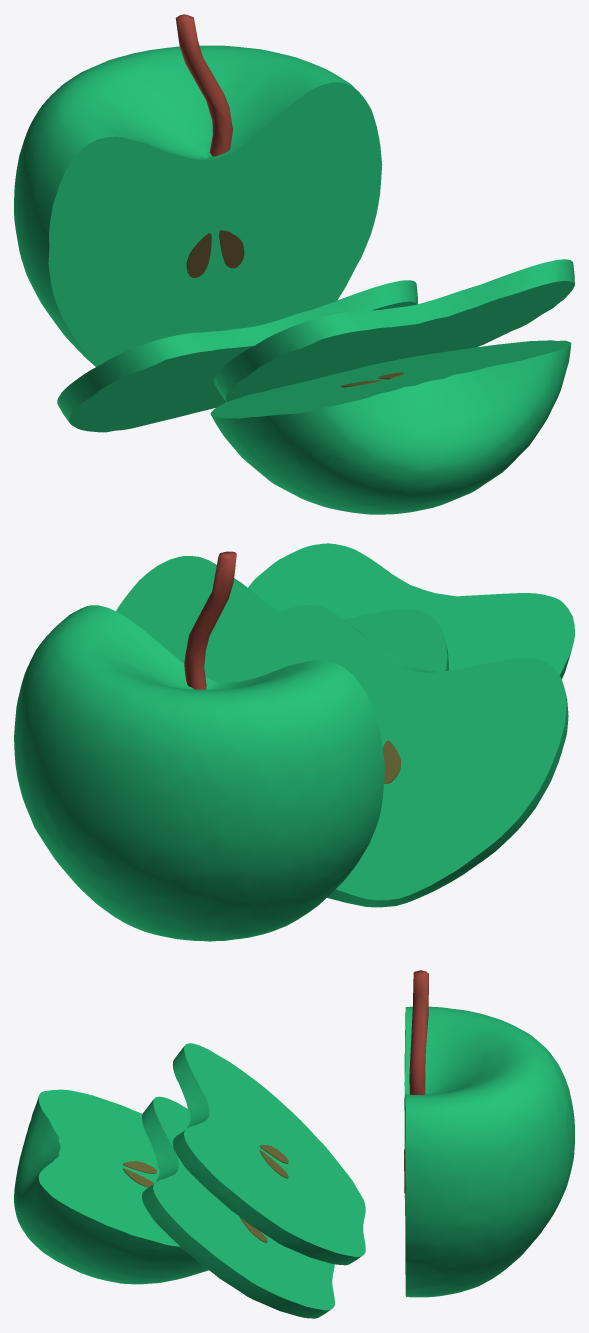
The model's file is apple-cut.gltf.
3 views of the same model, one above another, from view 1: azimuth 30°, elevation 25°; view 2: azimuth 150°, elevation 25°; view 3: azimuth 270°, elevation 25° (orthographic). The views are drawn at different scales.
Parts seen in each view (by area): view 1: Sphere.002, Sphere.007, Sphere.001, Sphere.005, Cylinder.002, Sphere.004; view 2: Sphere.002, Sphere.005, Sphere.007, Sphere.001, Cylinder.002, Sphere.003; view 3: Sphere.002, Sphere.007, Sphere.005, Sphere.001, Cylinder.002, Sphere.008, Sphere.003.
Boxes of the visible parts, bbox=[...] form: Sphere.002: bbox=[14, 45, 382, 366]; Sphere.007: bbox=[210, 340, 571, 514]; Sphere.001: bbox=[214, 259, 574, 402]; Sphere.005: bbox=[57, 280, 417, 432]; Cylinder.002: bbox=[175, 14, 232, 156]; Sphere.004: bbox=[186, 230, 244, 277]; Sphere.002: bbox=[14, 605, 384, 941]; Sphere.005: bbox=[222, 605, 568, 907]; Sphere.007: bbox=[248, 543, 574, 678]; Sphere.001: bbox=[116, 556, 448, 682]; Cylinder.002: bbox=[184, 551, 236, 689]; Sphere.003: bbox=[382, 740, 400, 783]; Sphere.002: bbox=[404, 1006, 574, 1297]; Sphere.007: bbox=[14, 1089, 208, 1284]; Sphere.005: bbox=[172, 1043, 365, 1265]; Sphere.001: bbox=[142, 1096, 334, 1318]; Cylinder.002: bbox=[409, 970, 428, 1094]; Sphere.008: bbox=[122, 1161, 156, 1187]; Sphere.003: bbox=[259, 1145, 288, 1178].
Bounding box in the file's own units: 4.95 × 3.64 × 6.38.
7 materials, 7 textured.
